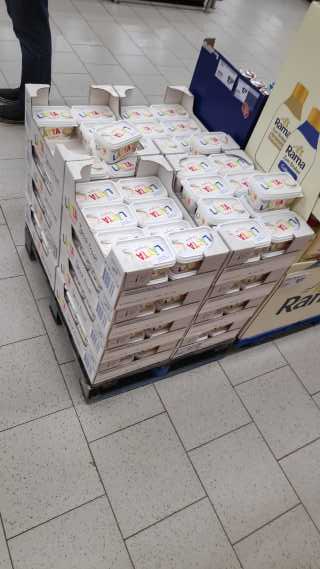laetta: (109, 236, 173, 280), (170, 227, 226, 272), (92, 121, 144, 161), (178, 176, 245, 207), (260, 209, 303, 251), (225, 220, 268, 262), (195, 194, 254, 220), (78, 203, 136, 228), (31, 105, 74, 137), (114, 175, 166, 200), (132, 199, 184, 224), (72, 178, 116, 204), (191, 130, 235, 152), (173, 154, 217, 176), (73, 101, 114, 122), (116, 101, 157, 122), (153, 101, 189, 119)
